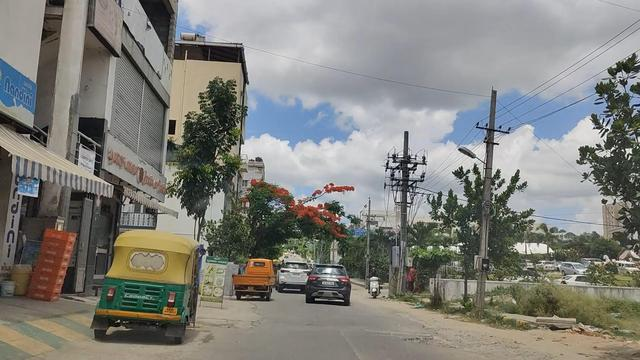RoadDamages: (332, 315, 451, 354), (229, 303, 285, 334), (440, 333, 498, 360)
